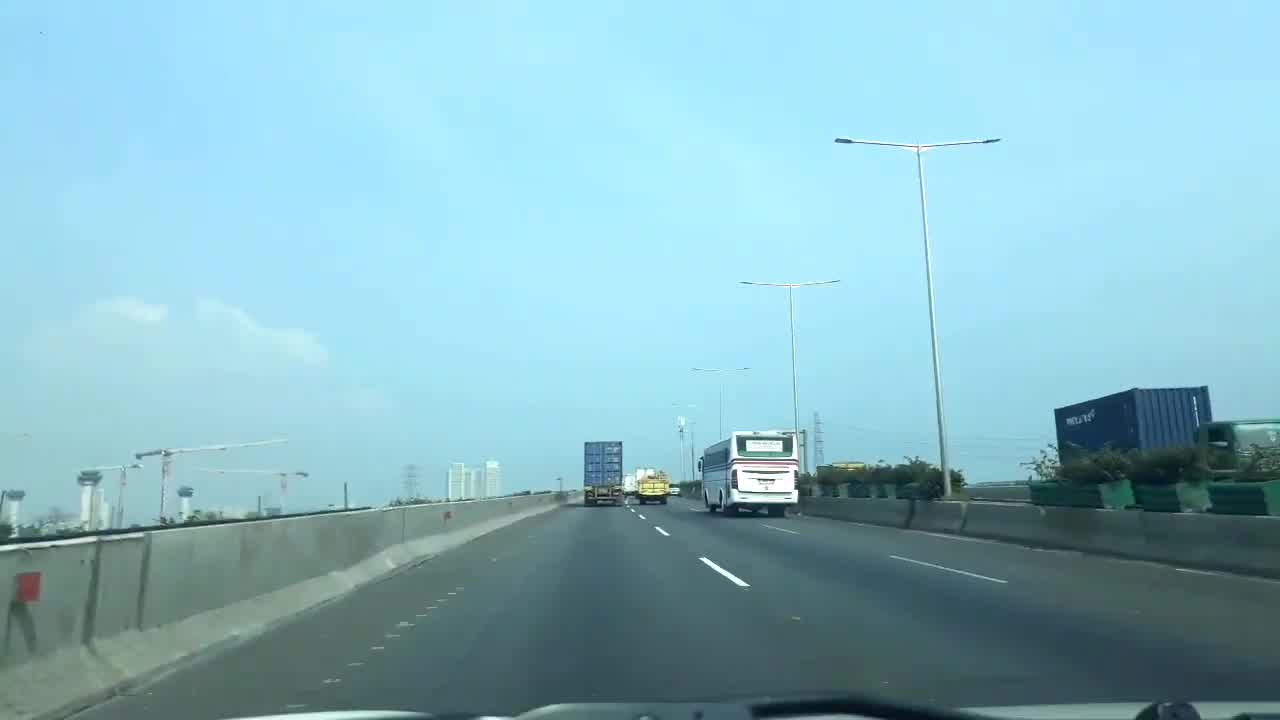plate_positive: (759, 479, 773, 484), (599, 489, 608, 493)
